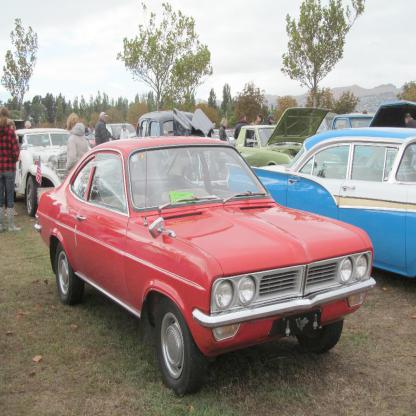Car: (15, 98, 416, 394)
